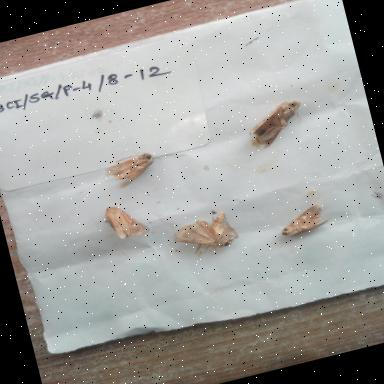abw: (157, 200, 248, 268), (238, 90, 317, 156), (90, 192, 156, 251), (96, 143, 169, 195), (267, 196, 339, 246)
